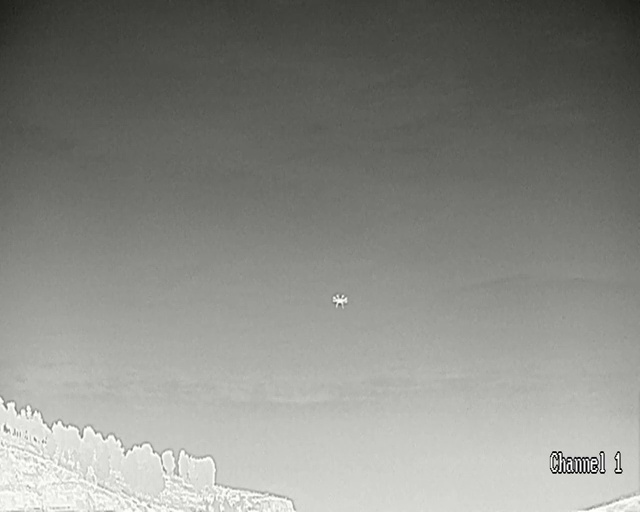uav: (332, 294, 346, 307)
